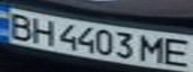0: (93, 27, 115, 57)
3: (115, 29, 139, 61)
4: (54, 21, 78, 51), (75, 25, 96, 54)
B: (3, 10, 36, 40)
E: (160, 35, 193, 68)
H: (27, 16, 60, 46)
M: (136, 33, 169, 64)
